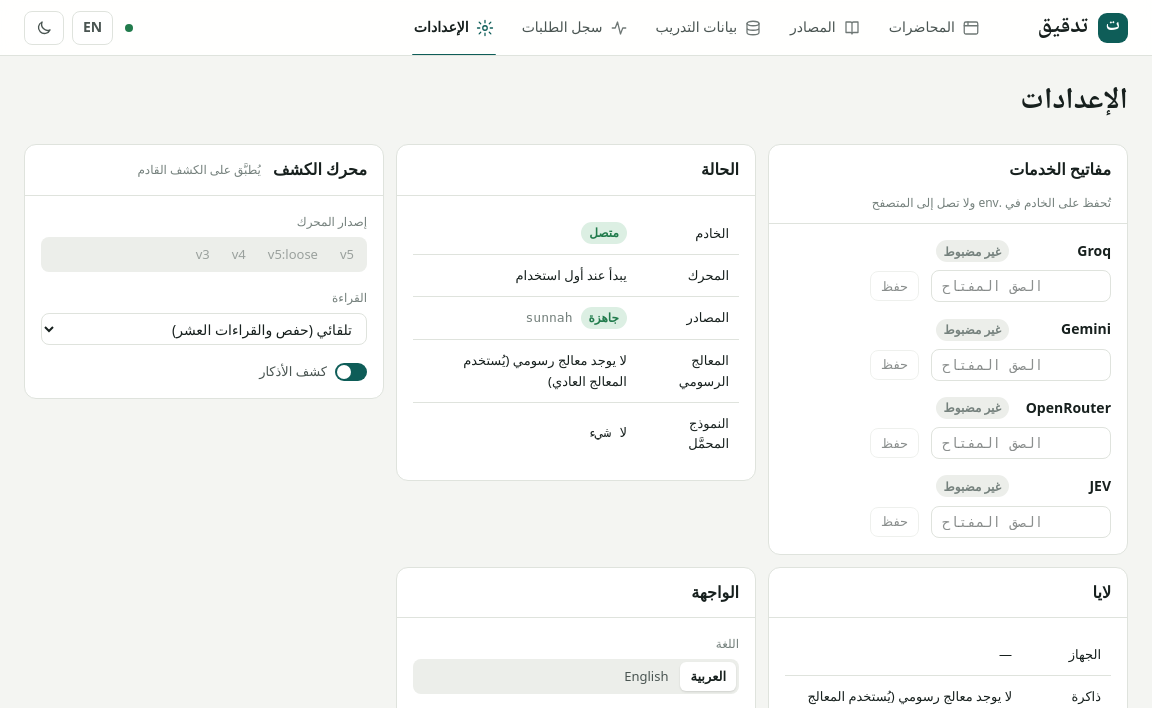
it: a saved key shows as set, and the key is never shown again
Type "gem-secret-123" into the password field named "Gemini API key". click: (1021, 365)
box: [931,349,1111,381]
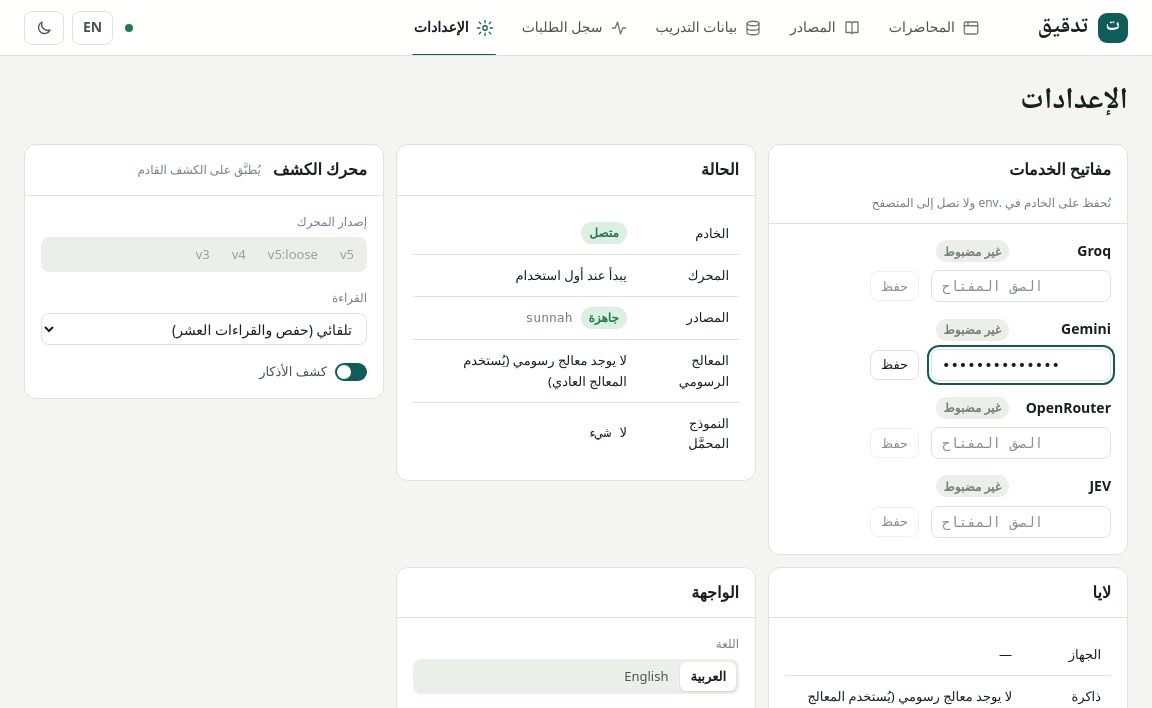
Click the button "حفظ" below "Gemini". click: (894, 365)
box: [870,350,919,380]
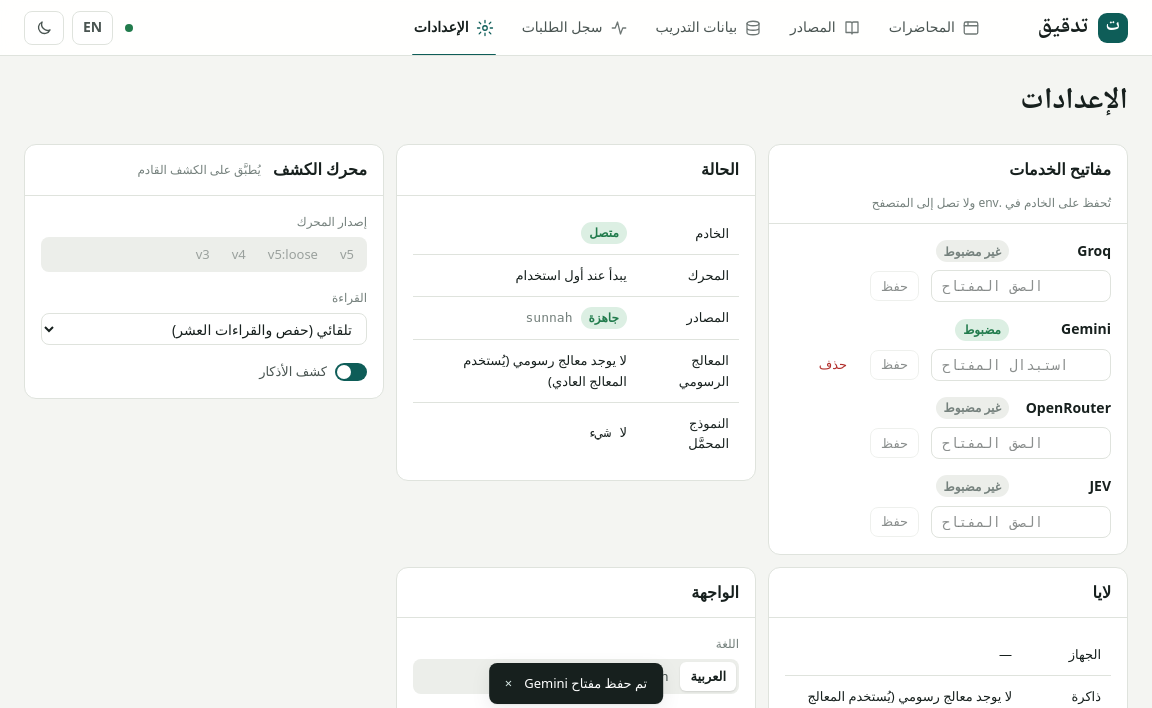
Result: the text "تم حفظ مفتاح Gemini" is shown at [524,673,647,694]
Result: the password field named "Gemini API key" is empty at [931,349,1111,381]
